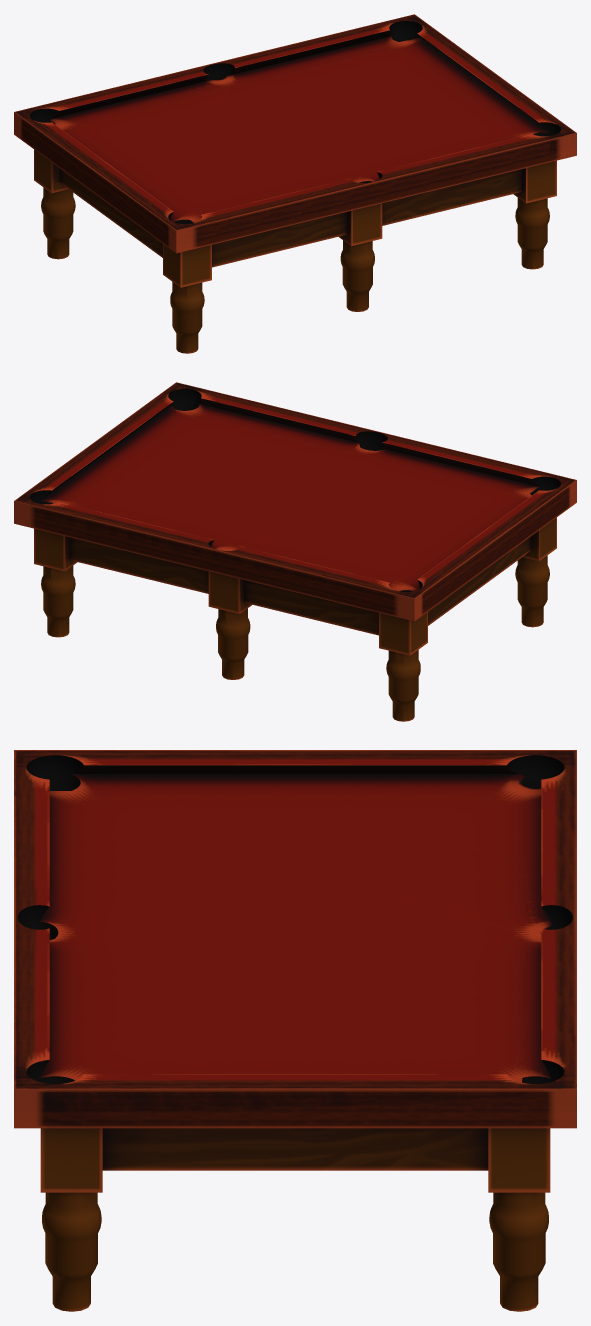
File: Pool.fbx
The picture shows the model from 3 angles, top to bottom: view 1: azimuth 30°, elevation 25°; view 2: azimuth 150°, elevation 25°; view 3: azimuth 270°, elevation 25°; orthographic projection. The views are drawn at different scales.
Parts seen in each view (by area): view 1: Pool; view 2: Pool; view 3: Pool.
Part boxes in pixels (left/top/right/bottom): Pool: left=14, top=14, right=576, bottom=353; Pool: left=14, top=382, right=576, bottom=721; Pool: left=14, top=750, right=576, bottom=1311.
Bounding box in the file's own units: 452 × 148 × 317.
Materials: 1 (1 with a texture image).
